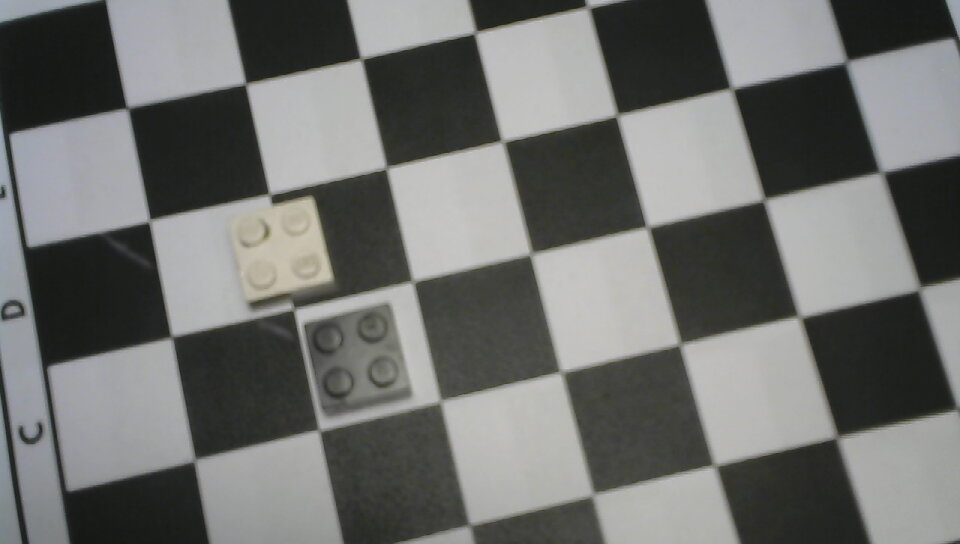bp: (299, 297, 415, 422)
